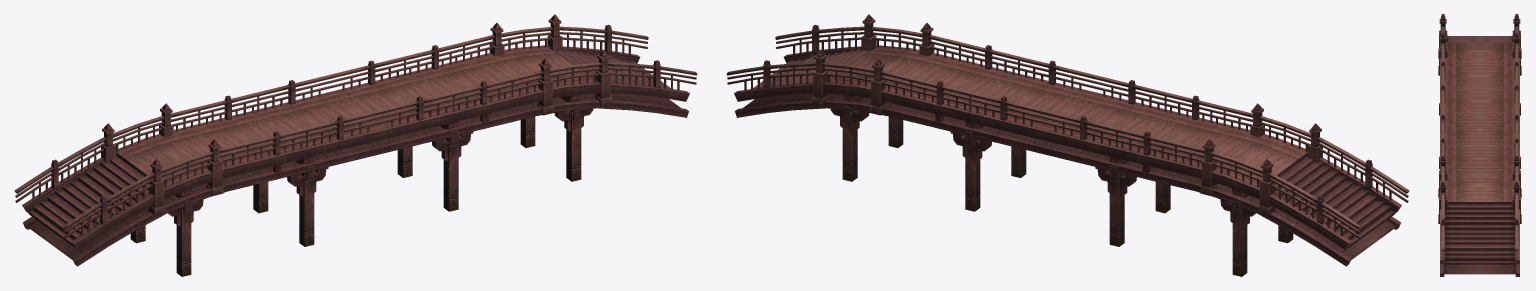
The model's file is xcz_ty_q_01.FBX.
The picture shows the model from 3 angles, left to right: view 1: azimuth 30°, elevation 25°; view 2: azimuth 150°, elevation 25°; view 3: azimuth 270°, elevation 25°; orthographic projection. The views are drawn at different scales.
Parts seen in each view (by area): view 1: XCZ_ty_q_01; view 2: XCZ_ty_q_01; view 3: XCZ_ty_q_01.
Boxes of the visible parts, box(x1,y1,x2,y2) form: XCZ_ty_q_01: box(14, 14, 697, 276); XCZ_ty_q_01: box(726, 14, 1409, 276); XCZ_ty_q_01: box(1438, 14, 1521, 276).
Bounding box in the file's own units: 5013 × 977 × 754.
